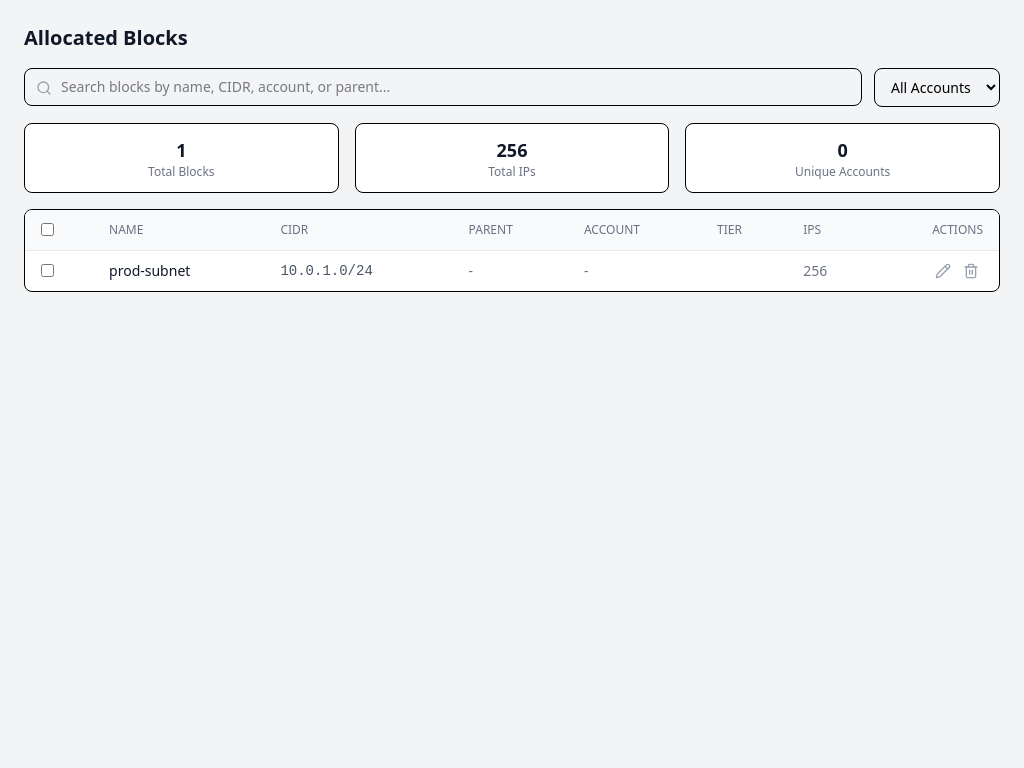
Scenario: BlocksPage edit block description › loads the current description into the edit form
Click the button titled "Edit block" at (943,271), box [931,259,955,283]
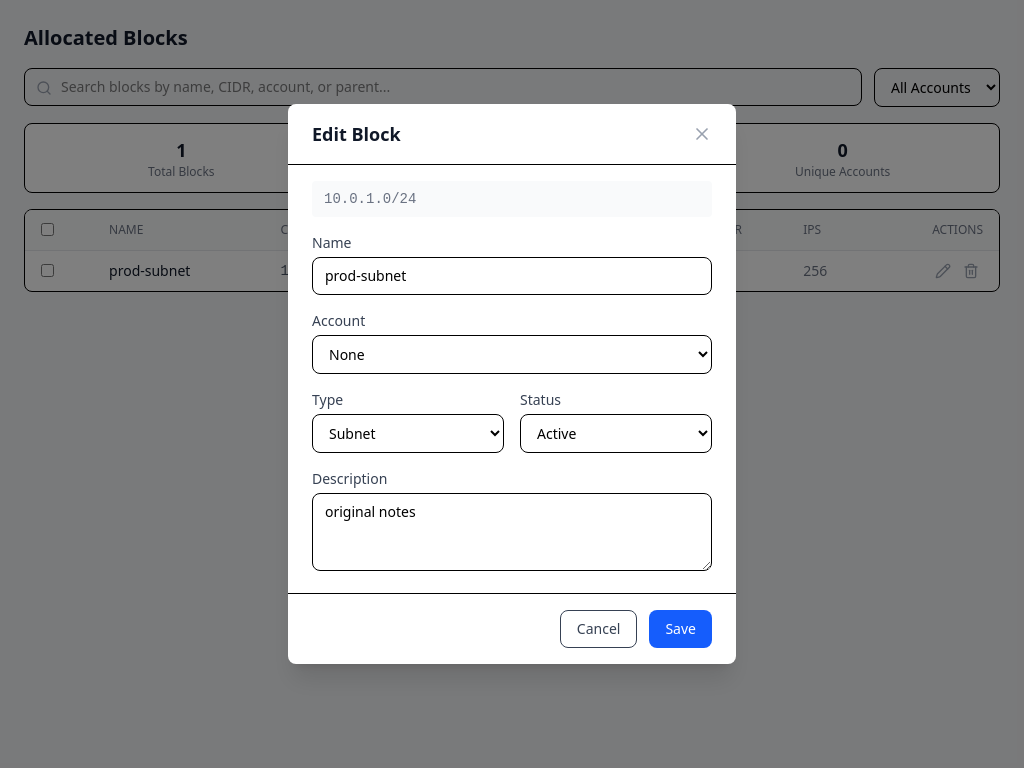
Now the text box with placeholder "Optional description..." holds "original notes", box [312,493,712,571]
